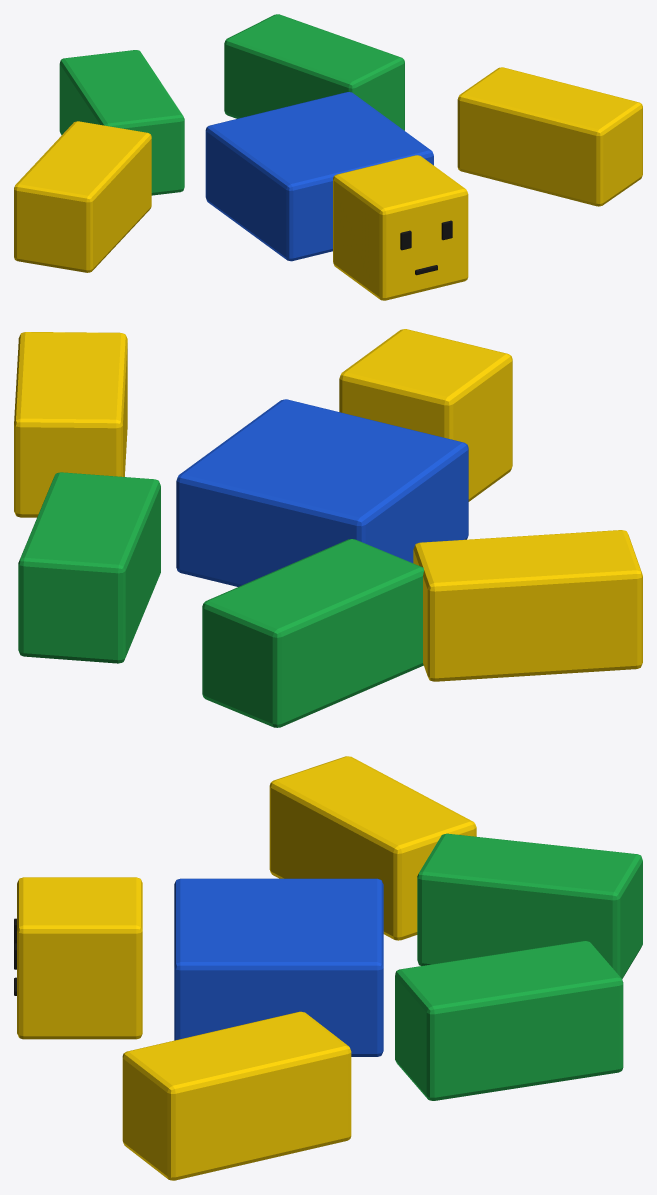
Rendered from 03_Oof.glb.
3 renders of one model, top to bottom at view 1: azimuth 30°, elevation 25°; view 2: azimuth 150°, elevation 25°; view 3: azimuth 270°, elevation 25°, orthographic. The views are drawn at different scales.
Visible parts, largest first — view 1: Torso, ArmL, ArmR, Head, LegL, LegR; view 2: Torso, ArmR, LegR, LegL, ArmL, Head; view 3: Torso, ArmL, LegL, LegR, Head, ArmR.
Boxes of the visible parts, <box> form: Torso: <box>205,92,433,261</box>; ArmL: <box>457,67,642,206</box>; ArmR: <box>14,121,151,272</box>; Head: <box>333,155,468,300</box>; LegL: <box>224,14,404,130</box>; LegR: <box>59,50,184,195</box>; Torso: <box>176,399,468,586</box>; ArmR: <box>413,530,642,681</box>; LegR: <box>202,539,423,727</box>; LegL: <box>18,472,160,663</box>; ArmL: <box>14,332,127,517</box>; Head: <box>339,329,512,501</box>; Torso: <box>174,878,383,1056</box>; ArmL: <box>122,1011,351,1180</box>; LegL: <box>395,941,623,1100</box>; LegR: <box>417,833,642,979</box>; Head: <box>17,877,142,1039</box>; ArmR: <box>269,756,476,940</box>.
Size of the model in its own units: 7.56 by 1.2 by 6.01.
